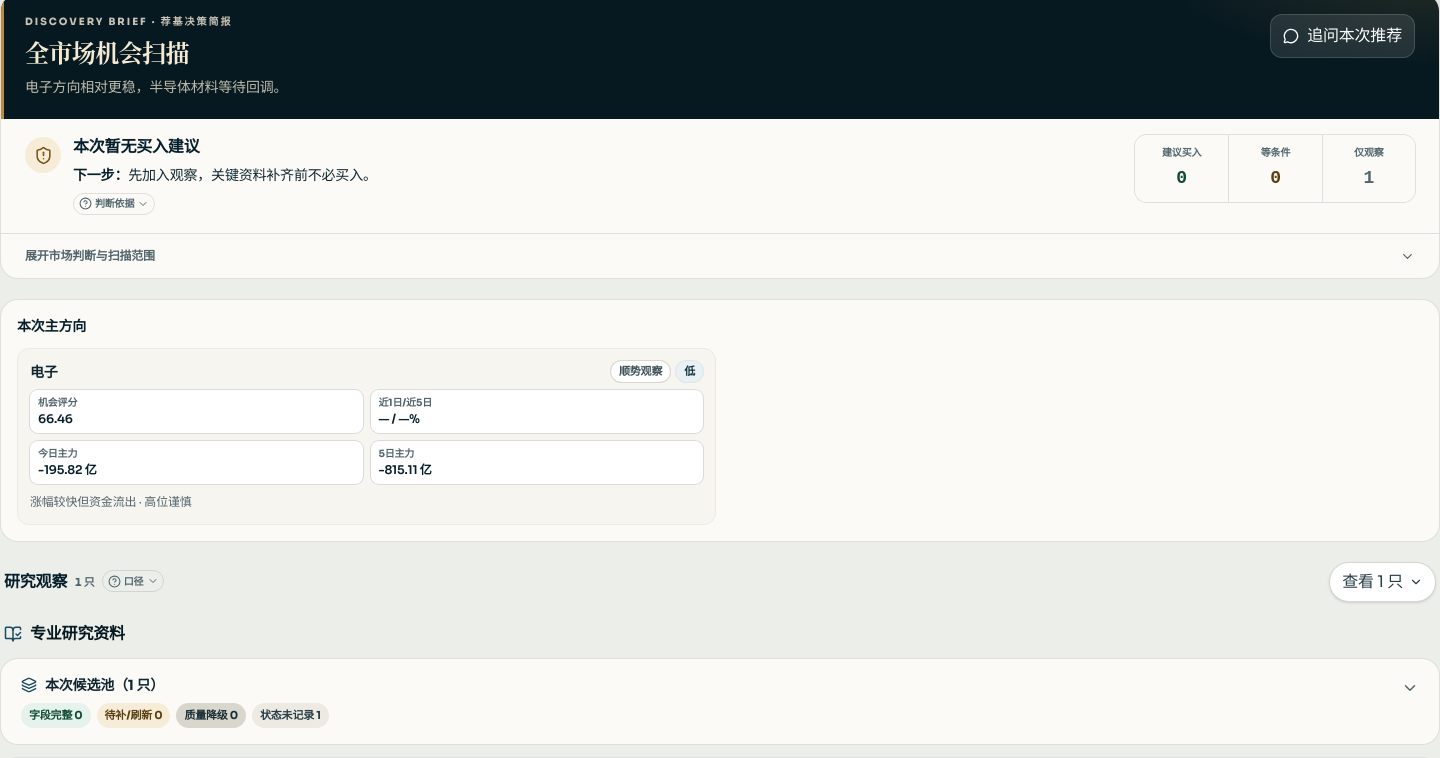
DiscoveryReportPanel › shows candidate quality columns when the pool is expanded
Click the button "本次候选池（1 只） 字段完整 0 待补/刷新 0 质量降级 0 状态未记录 1": (86, 685) x1=1 y1=660 x2=1439 y2=744
(page scrolled)
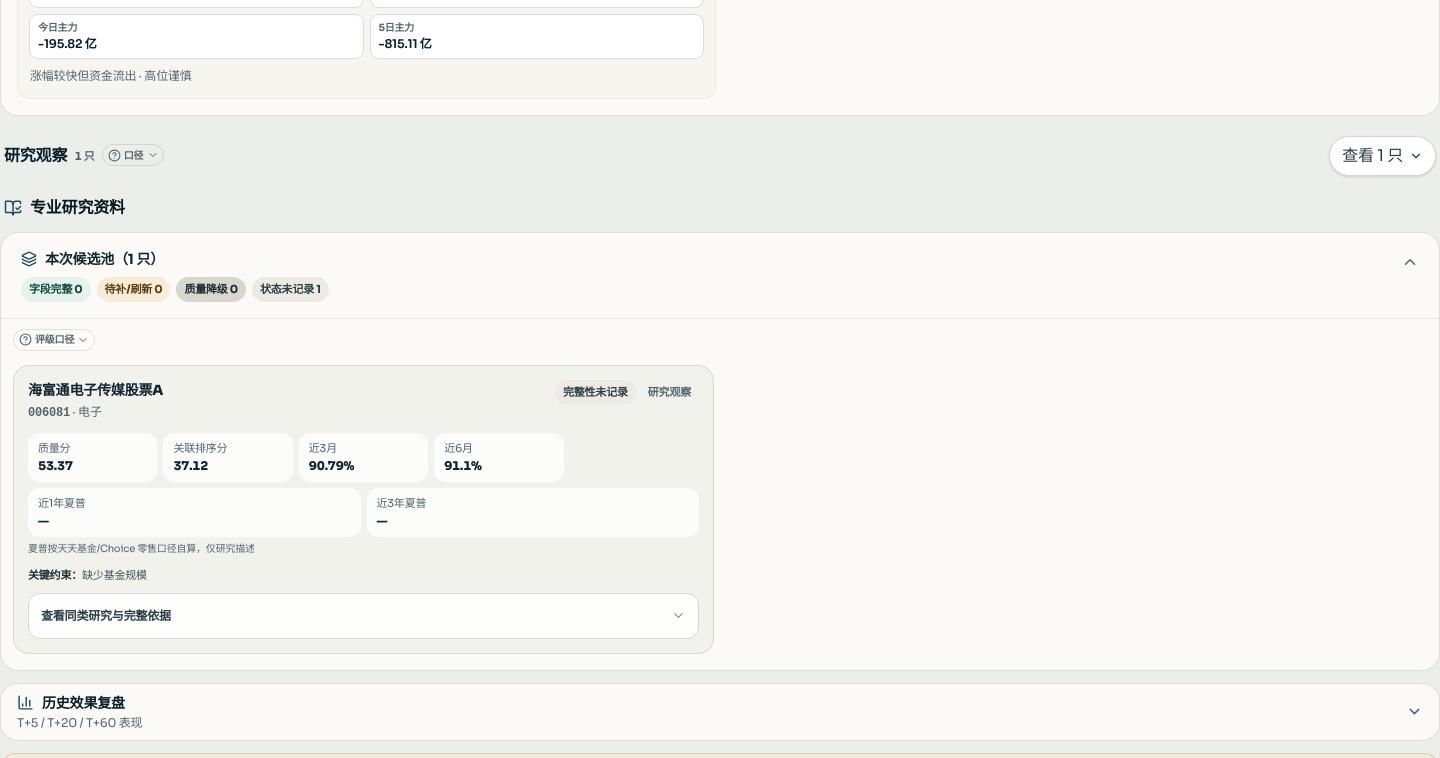
expect the text "质量分" is shown: met, box x1=38 y1=441 x2=70 y2=455
expect the text "关联排序分" is shown: met, box x1=173 y1=441 x2=227 y2=455
expect the text "53.37" is shown: met, box x1=38 y1=458 x2=73 y2=473
